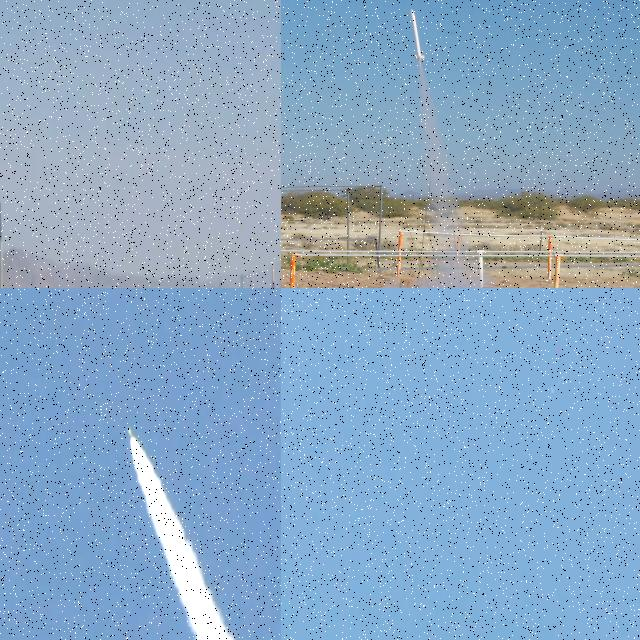Rocket: (410, 8, 426, 62), (0, 199, 6, 288), (128, 426, 134, 440), (551, 387, 553, 393)
